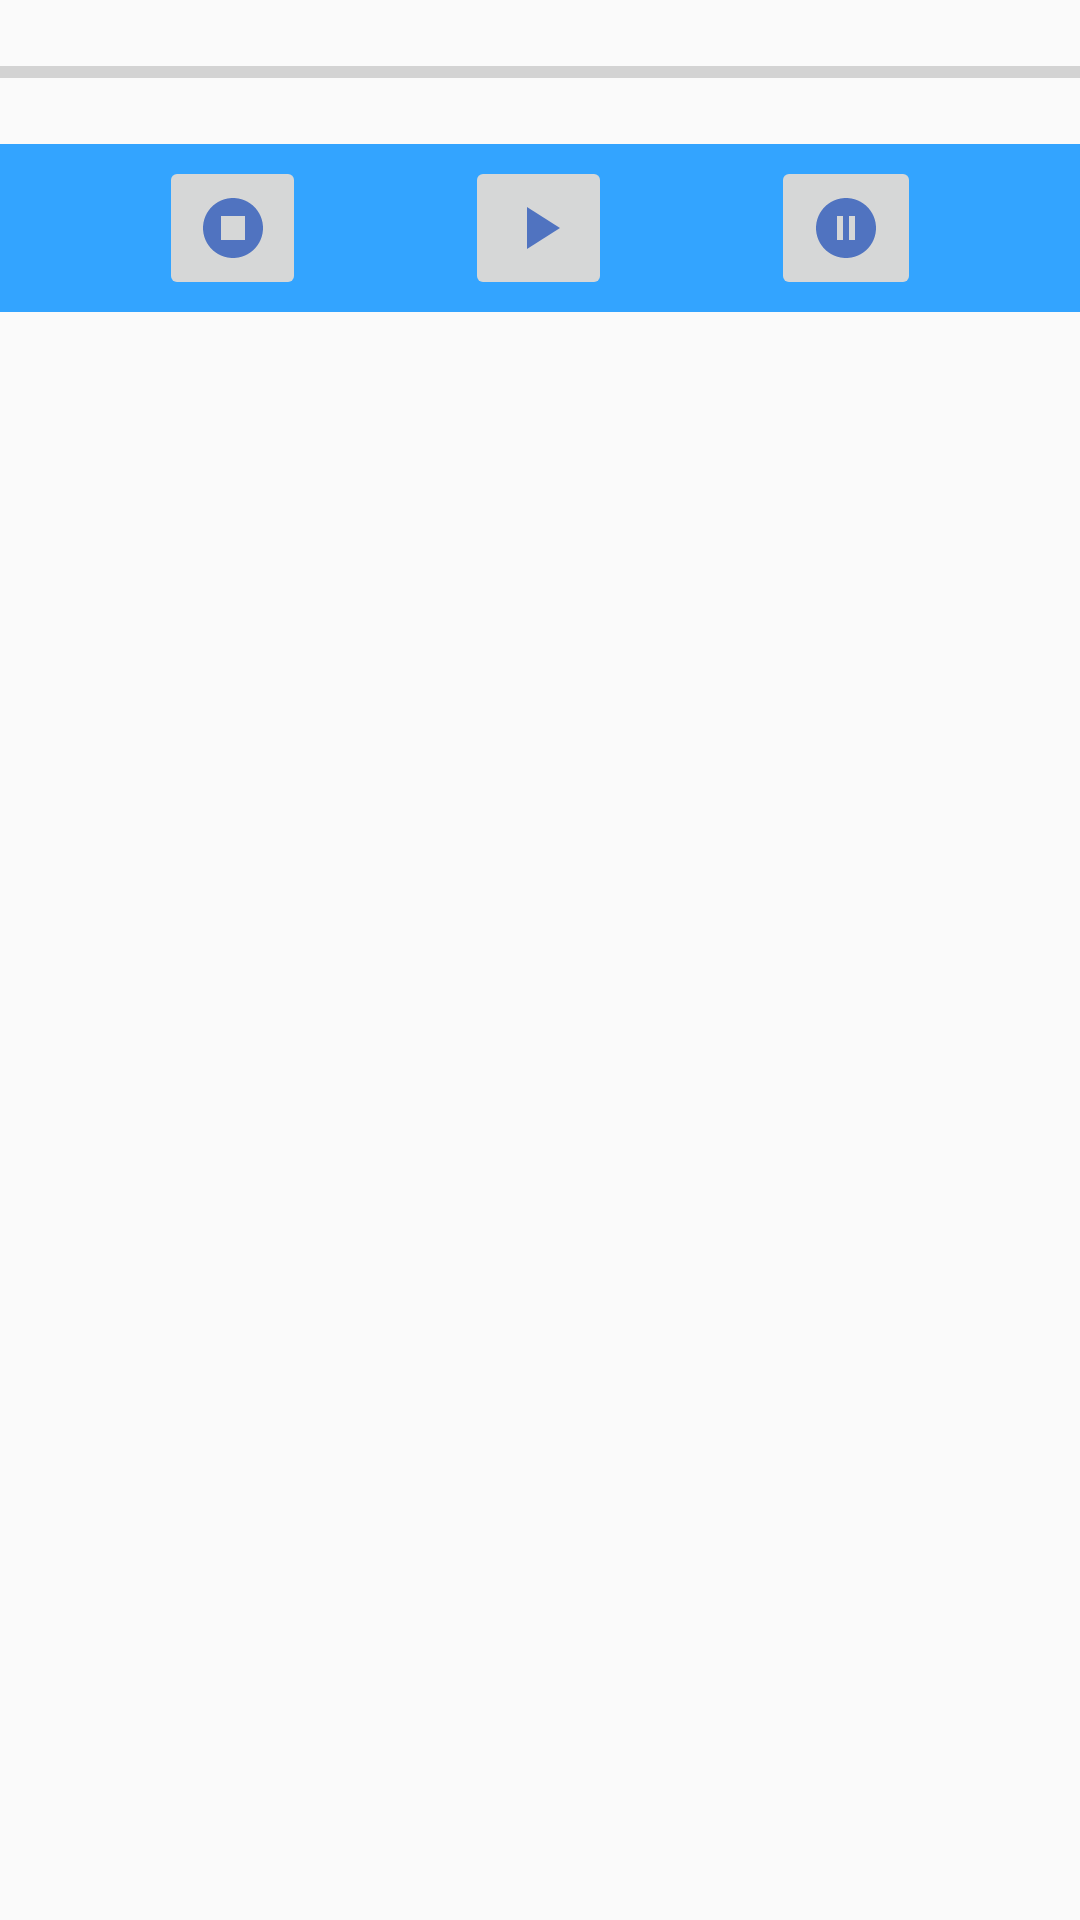

Locate icon controls on the screen. Image size 1080px×1920px, boxes as (left=x1, top=y1, right=x2, bottom=y2).
pause circle: (left=783, top=174, right=909, bottom=282)
play arrow: (left=477, top=174, right=600, bottom=282)
stop circle: (left=171, top=174, right=294, bottom=282)
